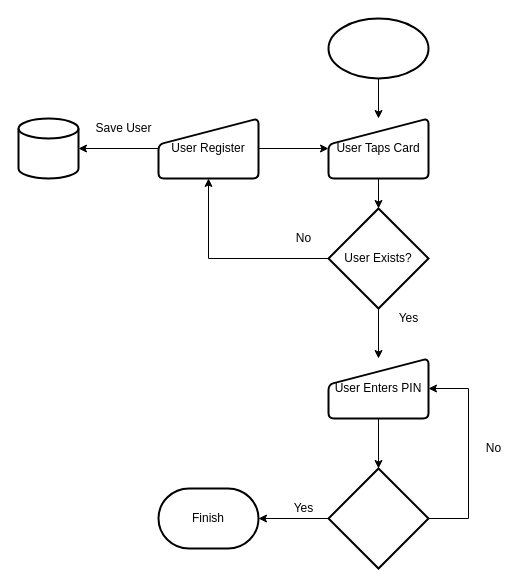
Image size: 525x586. Some labels were removed from this diagram. The box of each missing label's shape, as (x1, y1, x2, y2) in pixels:
PIN Ok?: (327, 467, 429, 569)
Start: (327, 17, 429, 79)
